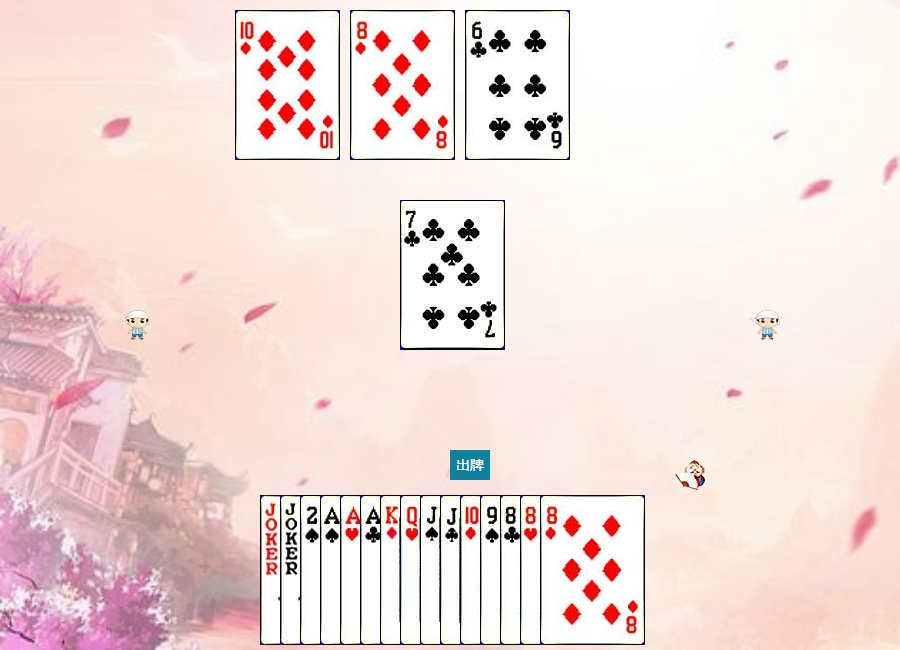10~1: (235, 10, 340, 160), (460, 495, 565, 645)
11~2: (440, 495, 545, 645)
11~4: (420, 495, 525, 645)
12~3: (400, 495, 505, 645)
13~1: (380, 495, 485, 645)
14~2: (360, 495, 465, 645)
14~3: (340, 495, 445, 645)
14~4: (320, 495, 425, 645)
15~4: (300, 495, 405, 645)
17~3: (280, 495, 385, 645)
18~4: (260, 495, 365, 645)
6~2: (465, 10, 570, 160)
7~2: (400, 200, 505, 350)
8~1: (350, 10, 455, 160), (540, 495, 645, 645)
8~2: (500, 495, 605, 645)
8~3: (520, 495, 625, 645)
9~4: (480, 495, 585, 645)
